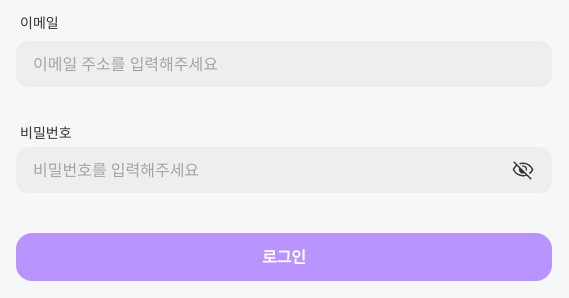
🧩 LoginForm — 폼 유효성 검증 › 이메일과 비밀번호를 비운 채 제출하면 에러 메시지가 표시된다
Click the button "로그인" at (284, 257), box [16,233,552,281]
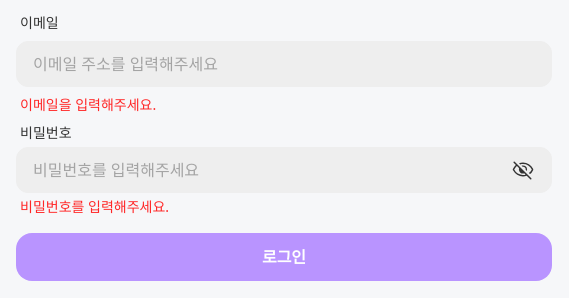
Result: the text "이메일을 입력해주세요." is shown at [20,95,156,114]
